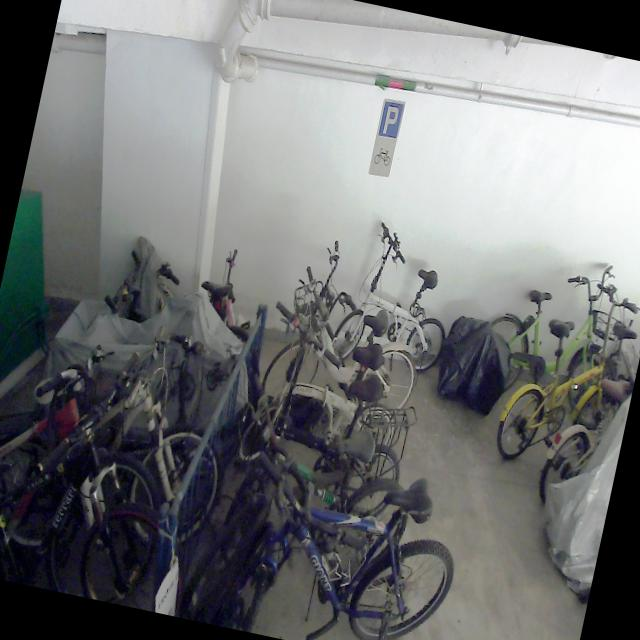bike: (0, 298, 246, 564), (176, 431, 470, 640), (0, 320, 196, 603), (218, 382, 430, 584), (260, 229, 440, 422), (237, 298, 416, 490), (470, 239, 637, 432), (491, 264, 640, 480), (329, 216, 467, 382)
